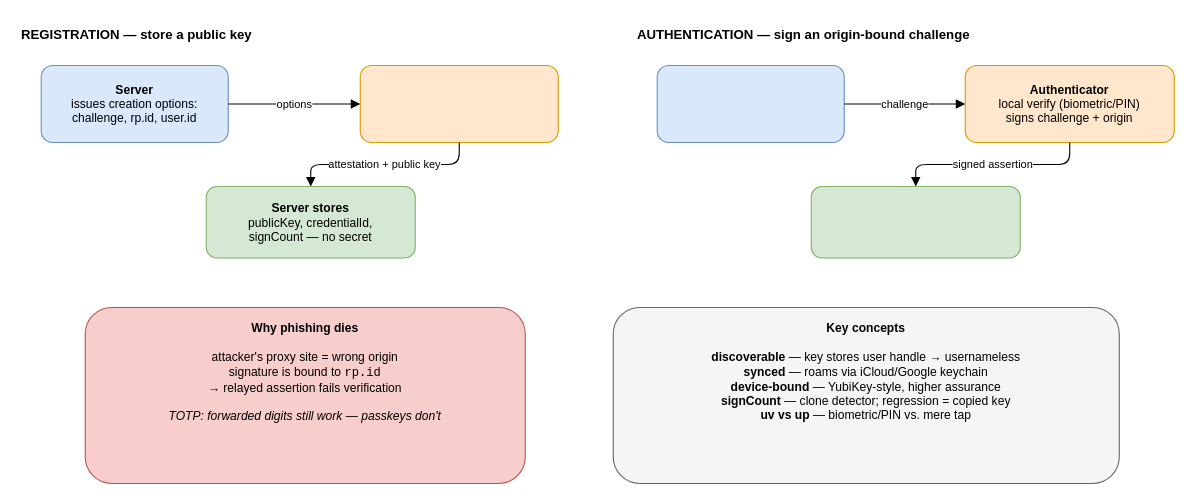
This 1203x503 diagram has some shape labels left out. Here are the shapes that lost their labels. From the top down, the box of each, then its label:
(359, 64, 558, 142): Authenticator generates key pair pub (out) / priv (stays)
(656, 64, 844, 142): Server issues request options: challenge + rp.id
(810, 185, 1020, 258): Server verifies signature, origin, rp.id, challenge, signCount ↑
